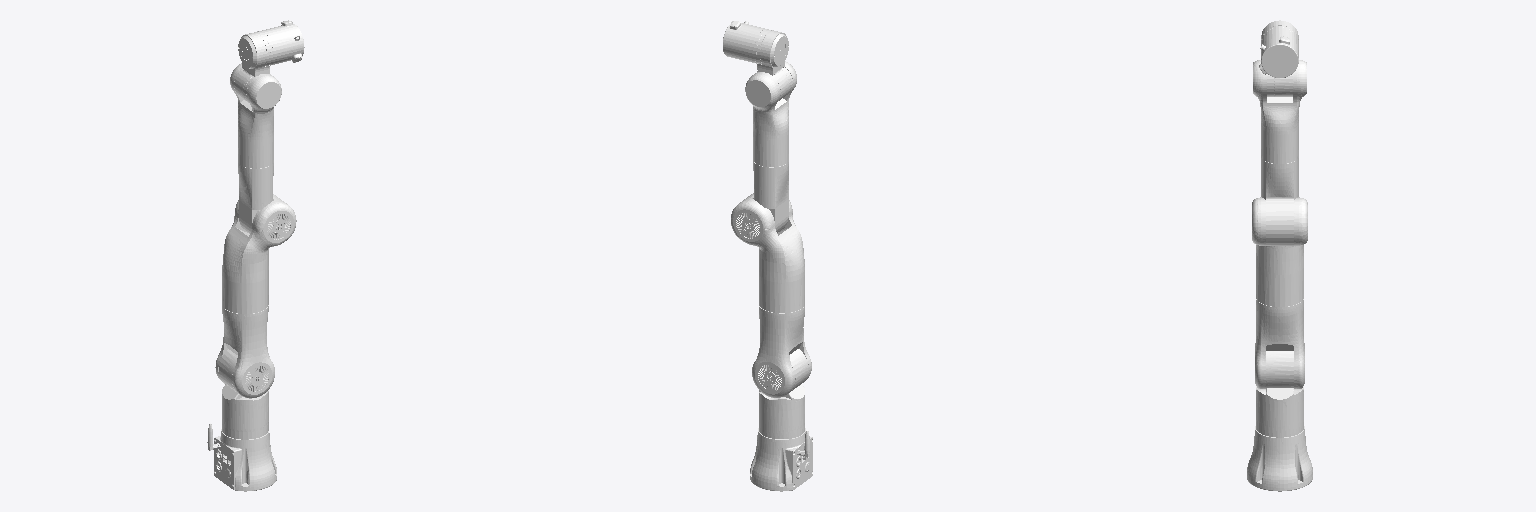
URDF robot description (GEN72):
<?xml version="1.0" encoding="utf-8"?>
<robot
  name="GEN72">
  <link
    name="base_link">
    <inertial>
      <origin
        xyz="0.000712087165808114 0.000118093249492777 0.0414067848053686"
        rpy="0 0 0" />
      <mass
        value="0.620373115484278" />
      <inertia
        ixx="0.00079889770688379"
        ixy="3.8775095880542E-06"
        ixz="3.23421606393105E-05"
        iyy="0.000777470500786011"
        iyz="-2.32809910225287E-06"
        izz="0.000713374333260858" />
    </inertial>
    <visual>
      <origin
        xyz="0 0 0"
        rpy="0 0 0" />
      <geometry>
        <mesh
          filename="package://rm_description/meshes/GEN72_II/base_link.STL" />
      </geometry>
      <material
        name="">
        <color
          rgba="1 1 1 1" />
      </material>
    </visual>
    <collision>
      <origin
        xyz="0 0 0"
        rpy="0 0 0" />
      <geometry>
        <mesh
          filename="package://rm_description/meshes/GEN72_II/base_link.STL" />
      </geometry>
    </collision>
  </link>
  <link
    name="Link1">
    <inertial>
      <origin
        xyz="4.68738708666153E-07 -5.61515321378703E-05 -0.0517918499656395"
        rpy="0 0 0" />
      <mass
        value="0.54994312997524" />
      <inertia
        ixx="0.00111167293667467"
        ixy="-1.7809620802246E-09"
        ixz="-8.45267903175353E-09"
        iyy="0.00117264804659634"
        iyz="1.59989313798593E-06"
        izz="0.000419695190171004" />
    </inertial>
    <visual>
      <origin
        xyz="0 0 0"
        rpy="0 0 0" />
      <geometry>
        <mesh
          filename="package://rm_description/meshes/GEN72_II/Link1.STL" />
      </geometry>
      <material
        name="">
        <color
          rgba="1 1 1 1" />
      </material>
    </visual>
    <collision>
      <origin
        xyz="0 0 0"
        rpy="0 0 0" />
      <geometry>
        <mesh
          filename="package://rm_description/meshes/GEN72_II/Link1.STL" />
      </geometry>
    </collision>
  </link>
  <joint
    name="joint1"
    type="revolute">
    <origin
      xyz="0 0 0.2052"
      rpy="0 0 0" />
    <parent
      link="base_link" />
    <child
      link="Link1" />
    <axis
      xyz="0 0 1" />
    <limit
      lower="-3.0014"
      upper="3.0014"
      effort="21"
      velocity="3.141" />
  </joint>
  <link
    name="Link2">
    <inertial>
      <origin
        xyz="-2.88545974623732E-07 -0.0579134089220325 3.75915161120642E-06"
        rpy="0 0 0" />
      <mass
        value="0.550586463383527" />
      <inertia
        ixx="0.00141428130939839"
        ixy="-5.05132406195906E-08"
        ixz="-4.32548551993774E-08"
        iyy="0.000521773824108223"
        iyz="-9.09462967590962E-09"
        izz="0.00126884568146693" />
    </inertial>
    <visual>
      <origin
        xyz="0 0 0"
        rpy="0 0 0" />
      <geometry>
        <mesh
          filename="package://rm_description/meshes/GEN72_II/Link2.STL" />
      </geometry>
      <material
        name="">
        <color
          rgba="1 1 1 1" />
      </material>
    </visual>
    <collision>
      <origin
        xyz="0 0 0"
        rpy="0 0 0" />
      <geometry>
        <mesh
          filename="package://rm_description/meshes/GEN72_II/Link2.STL" />
      </geometry>
    </collision>
  </link>
  <joint
    name="joint2"
    type="revolute">
    <origin
      xyz="0 0 0"
      rpy="-1.5708 0 0" />
    <parent
      link="Link1" />
    <child
      link="Link2" />
    <axis
      xyz="0 0 1" />
    <limit
      lower="-1.8323"
      upper="1.8323"
      effort="21"
      velocity="3.141" />
  </joint>
  <link
    name="Link3">
    <inertial>
      <origin
        xyz="0.0107298626179935 9.62004722863946E-07 -0.0695594229370219"
        rpy="0 0 0" />
      <mass
        value="0.82968557502544" />
      <inertia
        ixx="0.00280001568966415"
        ixy="-1.44008311104275E-08"
        ixz="-0.000595023175409376"
        iyy="0.00283701746914158"
        iyz="-2.19949205300414E-08"
        izz="0.00105779244171461" />
    </inertial>
    <visual>
      <origin
        xyz="0 0 0"
        rpy="0 0 0" />
      <geometry>
        <mesh
          filename="package://rm_description/meshes/GEN72_II/Link3.STL" />
      </geometry>
      <material
        name="">
        <color
          rgba="1 1 1 1" />
      </material>
    </visual>
    <collision>
      <origin
        xyz="0 0 0"
        rpy="0 0 0" />
      <geometry>
        <mesh
          filename="package://rm_description/meshes/GEN72_II/Link3.STL" />
      </geometry>
    </collision>
  </link>
  <joint
    name="joint3"
    type="revolute">
    <origin
      xyz="0 -0.28 0"
      rpy="1.5708 0 0" />
    <parent
      link="Link2" />
    <child
      link="Link3" />
    <axis
      xyz="0 0 1" />
    <limit
      lower="-3.0014"
      upper="3.0014"
      effort="21"
      velocity="3.141" />
  </joint>
  <link
    name="Link4">
    <inertial>
      <origin
        xyz="-0.013111895152949 0.0451503357451828 -2.31513926694886E-07"
        rpy="0 0 0" />
      <mass
        value="0.290621238098372" />
      <inertia
        ixx="0.000529647096878416"
        ixy="8.2565173990464E-05"
        ixz="6.55720933001501E-10"
        iyy="0.000194605004006168"
        iyz="8.64015145346353E-10"
        izz="0.000590168359619798" />
    </inertial>
    <visual>
      <origin
        xyz="0 0 0"
        rpy="0 0 0" />
      <geometry>
        <mesh
          filename="package://rm_description/meshes/GEN72_II/Link4.STL" />
      </geometry>
      <material
        name="">
        <color
          rgba="1 1 1 1" />
      </material>
    </visual>
    <collision>
      <origin
        xyz="0 0 0"
        rpy="0 0 0" />
      <geometry>
        <mesh
          filename="package://rm_description/meshes/GEN72_II/Link4.STL" />
      </geometry>
    </collision>
  </link>
  <joint
    name="joint4"
    type="revolute">
    <origin
      xyz="0.040000186844245 0 0"
      rpy="1.5707963267949 0 0" />
    <parent
      link="Link3" />
    <child
      link="Link4" />
    <axis
      xyz="0 0 1" />
    <limit
      lower="-2.8792"
      upper="0.9597"
      effort="21"
      velocity="3.141" />
  </joint>
  <link
    name="Link5">
    <inertial>
      <origin
        xyz="-1.18843087107065E-06 -8.54985729573327E-05 -0.0632725760574326"
        rpy="0 0 0" />
      <mass
        value="0.451198262168411" />
      <inertia
        ixx="0.00129051318495878"
        ixy="3.48651894301762E-09"
        ixz="-2.37821560469814E-10"
        iyy="0.00115953902595173"
        iyz="2.42057250676721E-06"
        izz="0.000327049806404794" />
    </inertial>
    <visual>
      <origin
        xyz="0 0 0"
        rpy="0 0 0" />
      <geometry>
        <mesh
          filename="package://rm_description/meshes/GEN72_II/Link5.STL" />
      </geometry>
      <material
        name="">
        <color
          rgba="1 1 1 1" />
      </material>
    </visual>
    <collision>
      <origin
        xyz="0 0 0"
        rpy="0 0 0" />
      <geometry>
        <mesh
          filename="package://rm_description/meshes/GEN72_II/Link5.STL" />
      </geometry>
    </collision>
  </link>
  <joint
    name="joint5"
    type="revolute">
    <origin
      xyz="-0.018999 0.2525 0"
      rpy="-1.5708 0 0" />
    <parent
      link="Link4" />
    <child
      link="Link5" />
    <axis
      xyz="0 0 1" />
    <limit
      lower="-3.0014"
      upper="3.0014"
      effort="5"
      velocity="3.926" />
  </joint>
  <link
    name="Link6">
    <inertial>
      <origin
        xyz="0.0242920438561028 0.00255443844699678 -6.53849925857914E-05"
        rpy="0 0 0" />
      <mass
        value="0.20756793295766" />
      <inertia
        ixx="7.4545186661251E-05"
        ixy="-2.26966452986669E-05"
        ixz="-2.99738463100114E-07"
        iyy="0.000286536832716846"
        iyz="-3.37463552033454E-08"
        izz="0.000286928462037518" />
    </inertial>
    <visual>
      <origin
        xyz="0 0 0"
        rpy="0 0 0" />
      <geometry>
        <mesh
          filename="package://rm_description/meshes/GEN72_II/Link6.STL" />
      </geometry>
      <material
        name="">
        <color
          rgba="1 1 1 1" />
      </material>
    </visual>
    <collision>
      <origin
        xyz="0 0 0"
        rpy="0 0 0" />
      <geometry>
        <mesh
          filename="package://rm_description/meshes/GEN72_II/Link6.STL" />
      </geometry>
    </collision>
  </link>
  <joint
    name="joint6"
    type="revolute">
    <origin
      xyz="0 0 0"
      rpy="1.5708 -1.5708 0" />
    <parent
      link="Link5" />
    <child
      link="Link6" />
    <axis
      xyz="0 0 1" />
    <limit
      lower="-1.707"
      upper="1.783"
      effort="5"
      velocity="3.926" />
  </joint>
  <link
    name="Link7">
    <inertial>
      <origin
        xyz="0.000136937499703005 0.000200934349526612 -0.0365053550059413"
        rpy="0 0 0" />
      <mass
        value="0.227931410572715" />
      <inertia
        ixx="0.00015773346282352"
        ixy="5.68055708624683E-07"
        ixz="-3.66992709847985E-07"
        iyy="0.000158192859217757"
        iyz="-5.42990345033046E-07"
        izz="0.000109722972250852" />
    </inertial>
    <visual>
      <origin
        xyz="0 0 0"
        rpy="0 0 0" />
      <geometry>
        <mesh
          filename="package://rm_description/meshes/GEN72_II/Link7.STL" />
      </geometry>
      <material
        name="">
        <color
          rgba="1 1 1 1" />
      </material>
    </visual>
    <collision>
      <origin
        xyz="0 0 0"
        rpy="0 0 0" />
      <geometry>
        <mesh
          filename="package://rm_description/meshes/GEN72_II/Link7.STL" />
      </geometry>
    </collision>
  </link>
  <joint
    name="joint7"
    type="continuous">
    <origin
      xyz="0.067 -0.0787 0"
      rpy="1.5708 0 0" />
    <parent
      link="Link6" />
    <child
      link="Link7" />
    <axis
      xyz="0 0 1" />
    <limit
      lower="-3.0014"
      upper="3.0014"
      effort="5"
      velocity="3.926" />
  </joint>
</robot>

--- Render facts (derived) ---
The picture shows the robot from 3 angles, left to right: view 1: azimuth 30°, elevation 25°; view 2: azimuth 150°, elevation 25°; view 3: azimuth 270°, elevation 25°; orthographic projection.
Robot: GEN72 — 8 links, 7 joints (6 revolute, 1 continuous); root link base_link; default pose: all joints at 0.
Links seen in each view (by area): view 1: Link3, Link2, Link5, base_link, Link1, Link4, Link7, Link6; view 2: Link3, Link2, Link5, base_link, Link1, Link4, Link6, Link7; view 3: Link3, Link5, Link1, base_link, Link2, Link4, Link7, Link6.
Boxes of the visible links, x1,y1,x2,y2 form: Link3: (222, 200, 296, 313); Link2: (215, 305, 274, 398); Link5: (230, 63, 281, 168); base_link: (207, 423, 276, 491); Link1: (219, 349, 268, 439); Link4: (238, 163, 283, 233); Link7: (256, 20, 304, 65); Link6: (234, 32, 270, 102); Link3: (731, 199, 804, 312); Link2: (752, 306, 811, 397); Link5: (745, 61, 796, 166); base_link: (750, 428, 812, 491); Link1: (759, 349, 808, 438); Link4: (744, 161, 788, 232); Link6: (757, 30, 792, 100); Link7: (723, 21, 771, 63); Link3: (1252, 197, 1307, 306); Link5: (1253, 60, 1306, 163); Link1: (1256, 351, 1303, 437); base_link: (1247, 426, 1312, 491); Link2: (1255, 299, 1304, 388); Link4: (1261, 158, 1298, 245); Link7: (1259, 26, 1298, 77); Link6: (1261, 20, 1298, 96).
Bounding box of the posed robot: 0.1645 × 0.11 × 0.8422 m (x, y, z).
8 mesh visuals loaded from 8 distinct referenced files (8 binary STL).